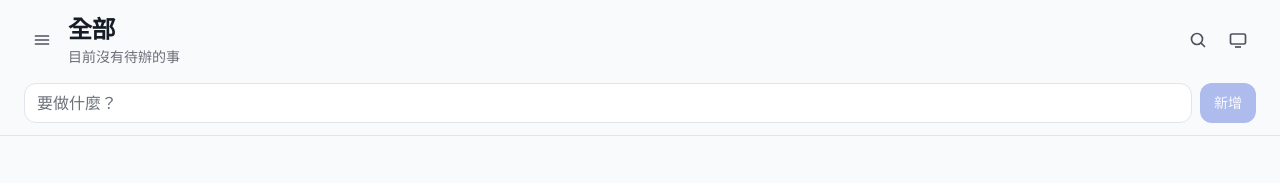
Scenario: AppHeader.vue › 快速新增：一行寫完一筆任務 › 送出前就看得到解析結果，不用送出才知道猜對沒
Type "明天 交報告 p1" into the field named "新增代辦事項" at [608, 103], box [24,83,1192,123]
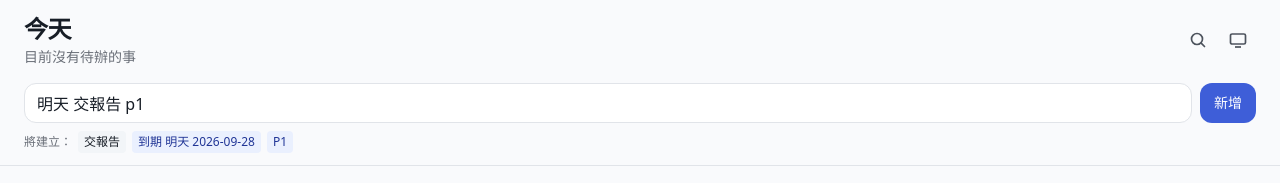
Expected: the message "將建立： 交報告 到期 明天 2026-09-28 P1" is shown, [24,131,293,153]
